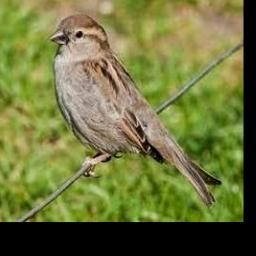Sparrow: (49, 15, 221, 206)
